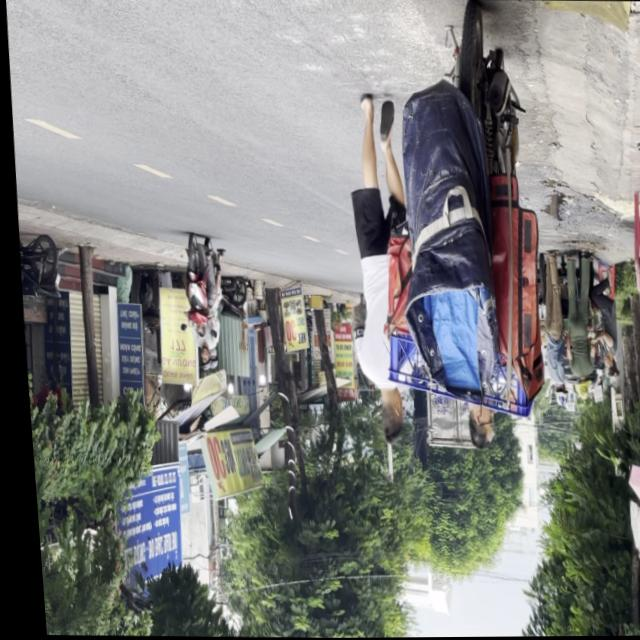helmet: (191, 348, 205, 372)
licenseplate: (172, 231, 225, 373)
